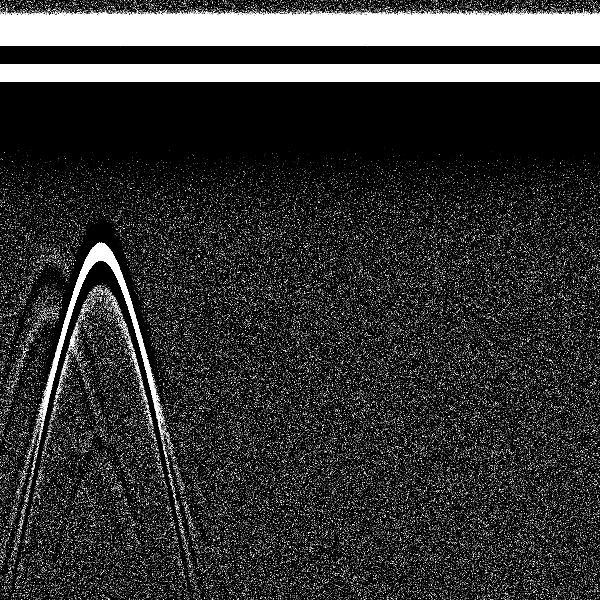pipe: (50, 6, 153, 336), (9, 6, 88, 338)
